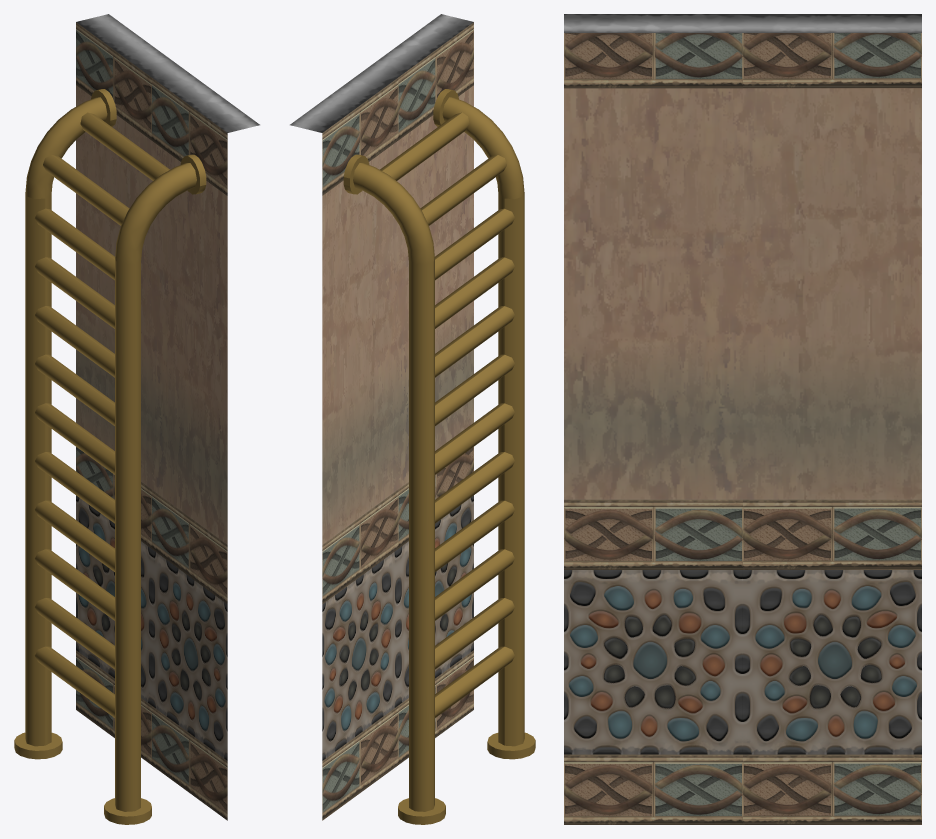
Rendered from DI_038_ladder.glb.
3 renders of one model, left to right at view 1: azimuth 30°, elevation 25°; view 2: azimuth 150°, elevation 25°; view 3: azimuth 270°, elevation 25°, orthographic. The views are drawn at different scales.
Visible parts, largest first — view 1: Ladder, Wall, Wall_stuco_brown; view 2: Ladder, Wall, Wall_stuco_brown; view 3: Wall_stuco_brown, Wall.
Boxes of the visible parts, x1,y1,x2,y2 form: Ladder: [14, 89, 206, 824]; Wall: [76, 14, 259, 820]; Wall_stuco_brown: [76, 85, 227, 544]; Ladder: [343, 89, 535, 824]; Wall: [290, 14, 473, 820]; Wall_stuco_brown: [322, 85, 473, 544]; Wall_stuco_brown: [564, 88, 921, 499]; Wall: [564, 14, 921, 824].
Bounding box in the file's own units: 0.6954 × 3.75 × 1.5.
Materials: 3 (2 with a texture image).
